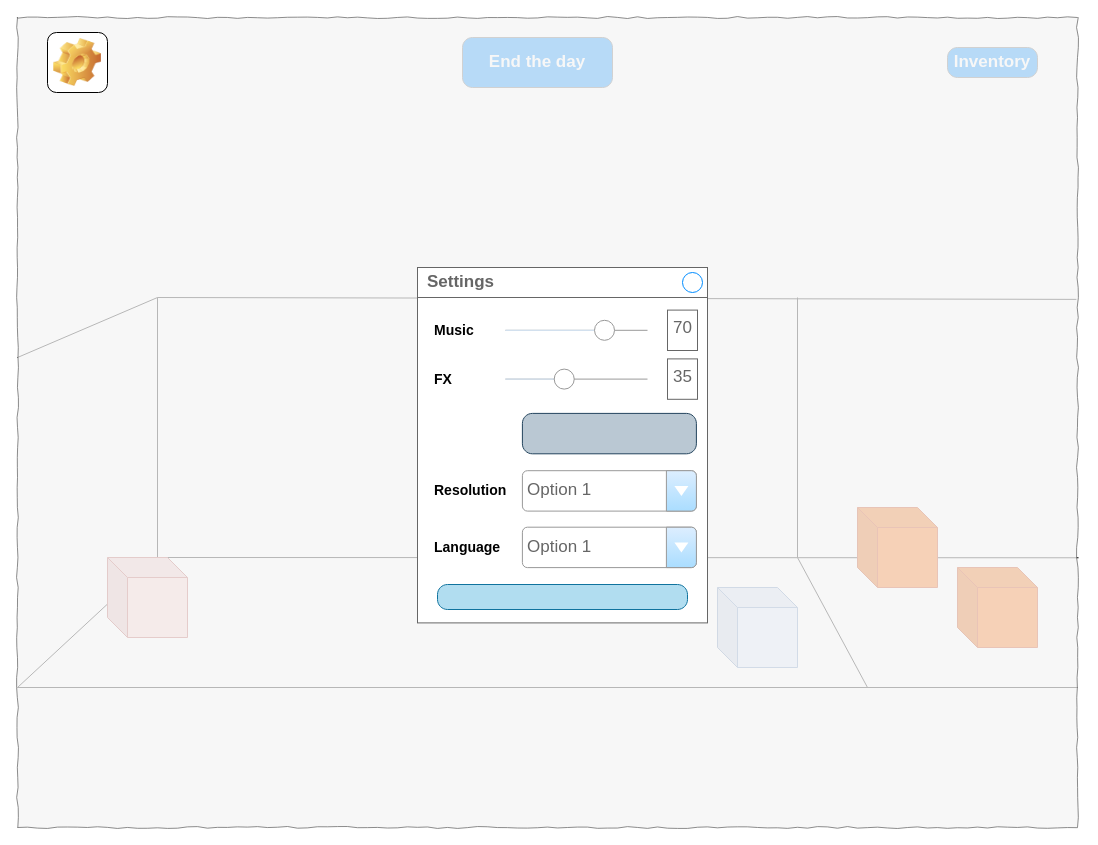
Some shapes in this 1098 by 845 pixel diagram are drawn without their labels. Here are the shapes that lost their labels. From the top down, the centre of each, then its label:
point 608,433: Key bindings
point 562,597: Back
